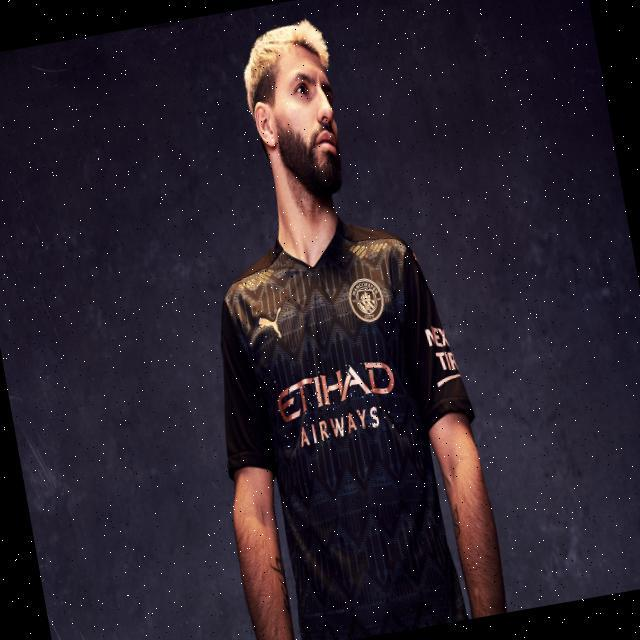Etihad Airways: (271, 357, 403, 450)
Puma: (256, 305, 286, 342)
